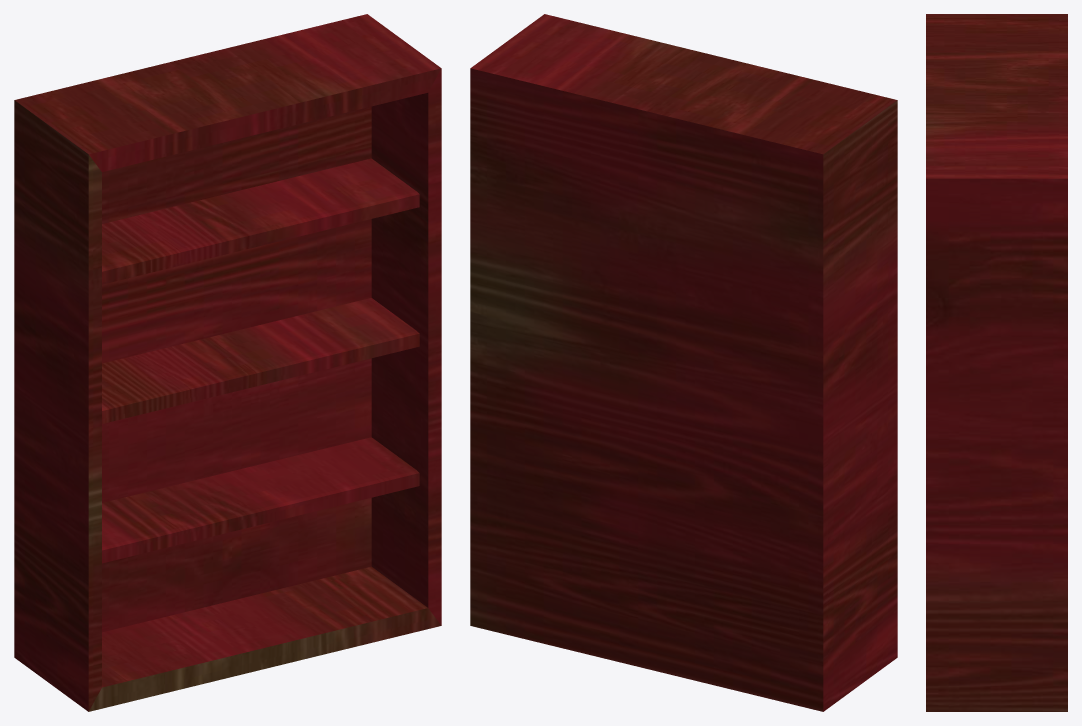
Rendered from OldBookshelf.fbx.
3 views of the same model, side by side, from view 1: azimuth 30°, elevation 25°; view 2: azimuth 150°, elevation 25°; view 3: azimuth 270°, elevation 25° (orthographic). The views are drawn at different scales.
Visible parts, largest first — view 1: Book_Self_exported3:Mesh; view 2: Book_Self_exported3:Mesh; view 3: Book_Self_exported3:Mesh.
Boxes of the visible parts, x1,y1,x2,y2 form: Book_Self_exported3:Mesh: (14,14,441,711); Book_Self_exported3:Mesh: (470,14,897,711); Book_Self_exported3:Mesh: (926,14,1067,711).
Bounding box in the file's own units: 1.32 × 2 × 0.4823.
